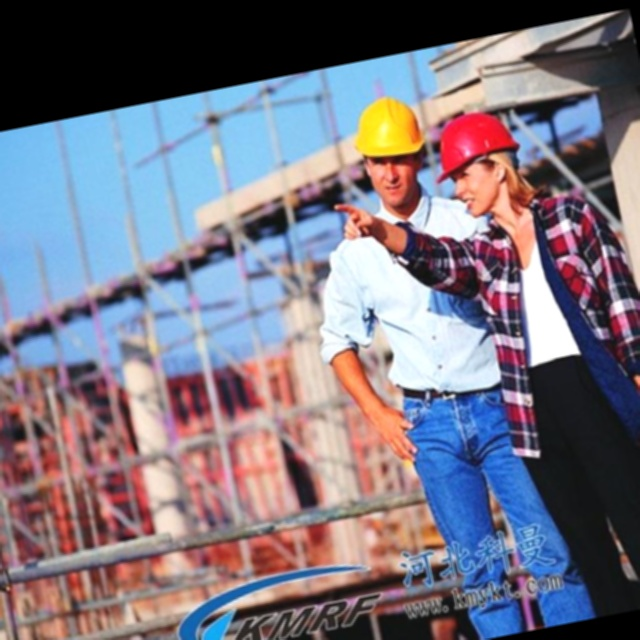Con_Casco: (431, 105, 527, 216), (351, 92, 432, 200)
